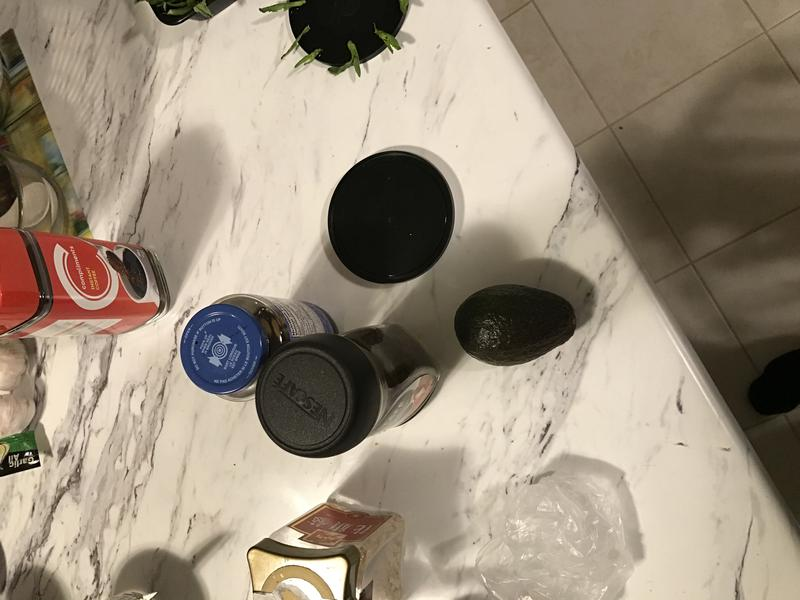avacado: (446, 280, 589, 373)
